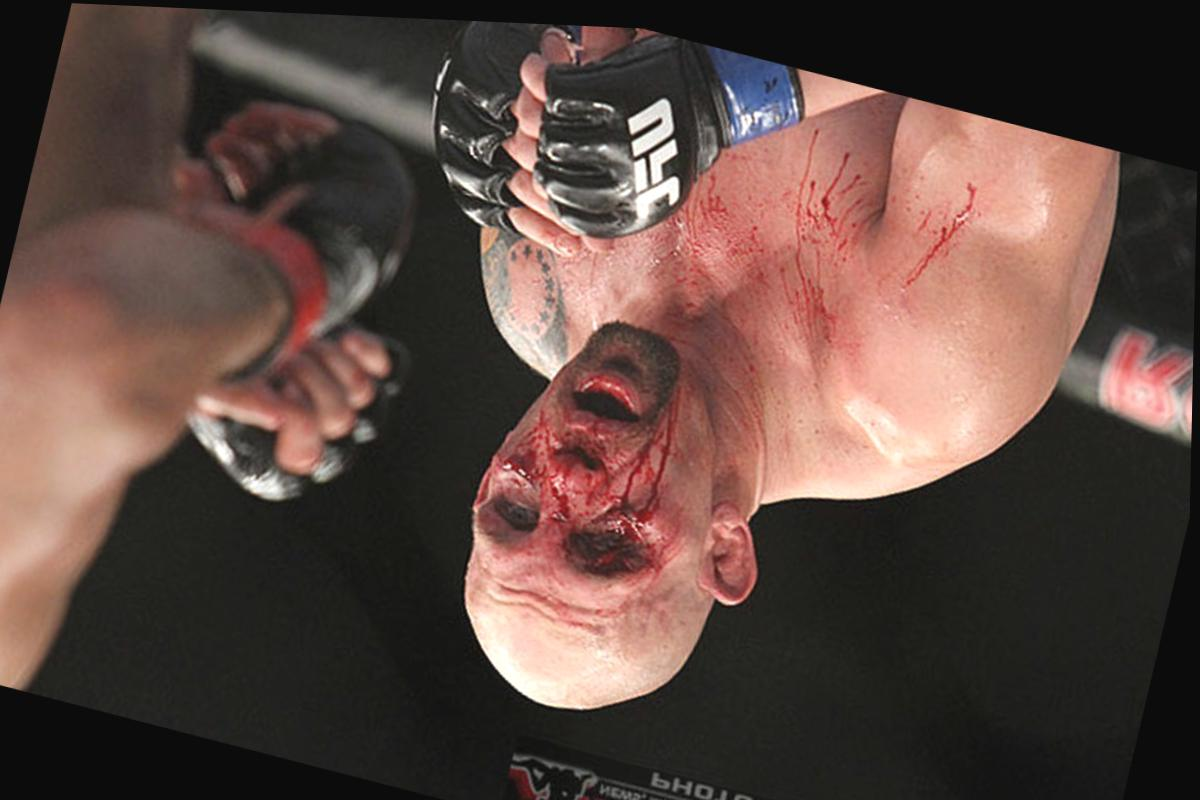Fire: (585, 122, 886, 361), (475, 316, 683, 606), (902, 173, 982, 282)
